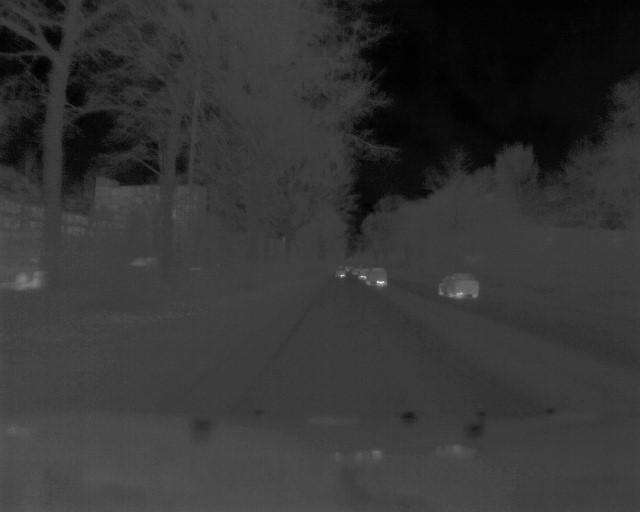car: (437, 269, 483, 302), (364, 265, 390, 288), (333, 266, 348, 281), (356, 267, 370, 281)
